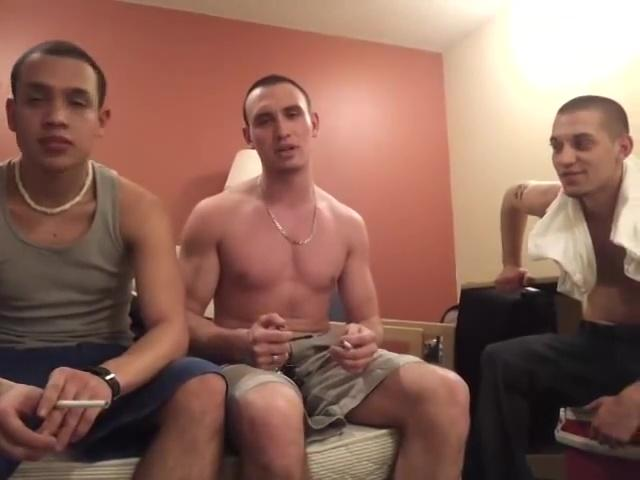cigarette: (52, 391, 111, 416), (338, 336, 355, 352)
